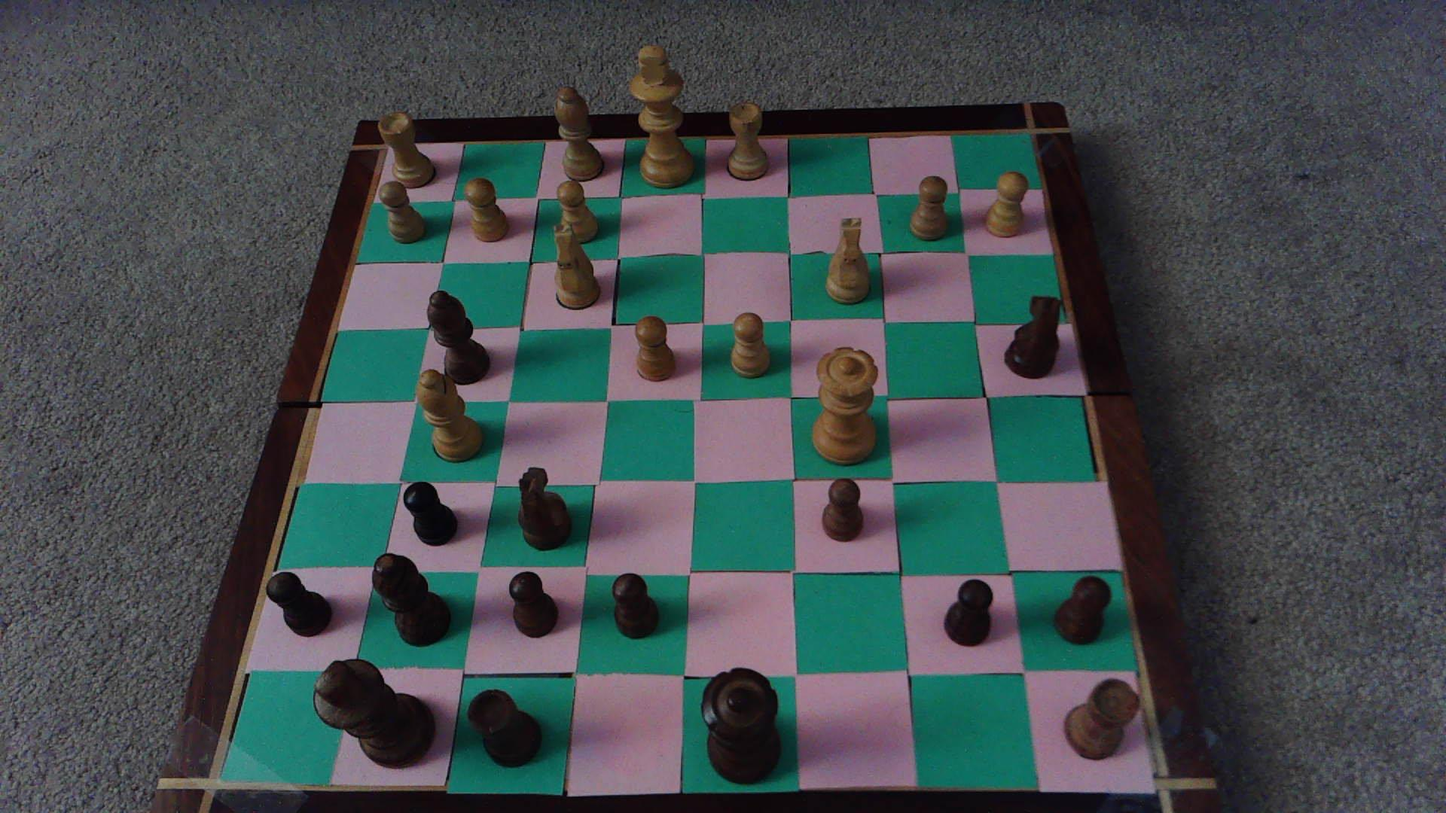dark_piece: (314, 659, 434, 767), (702, 668, 779, 782), (374, 553, 450, 645), (1065, 678, 1138, 758), (428, 290, 489, 385), (467, 689, 540, 766), (1005, 297, 1060, 378), (519, 467, 571, 550), (267, 573, 331, 635), (1054, 577, 1110, 644), (404, 482, 456, 546), (944, 579, 993, 645), (509, 571, 557, 637), (612, 573, 658, 638), (822, 479, 862, 540)
white_piece: (630, 46, 693, 186), (813, 347, 876, 464), (417, 370, 482, 461), (554, 87, 604, 180), (378, 112, 436, 187), (552, 225, 601, 309), (825, 218, 869, 303), (728, 102, 767, 179), (378, 182, 426, 243), (465, 177, 508, 242), (986, 171, 1027, 236), (556, 181, 598, 243), (635, 315, 675, 380), (731, 312, 769, 376), (910, 175, 948, 239)
